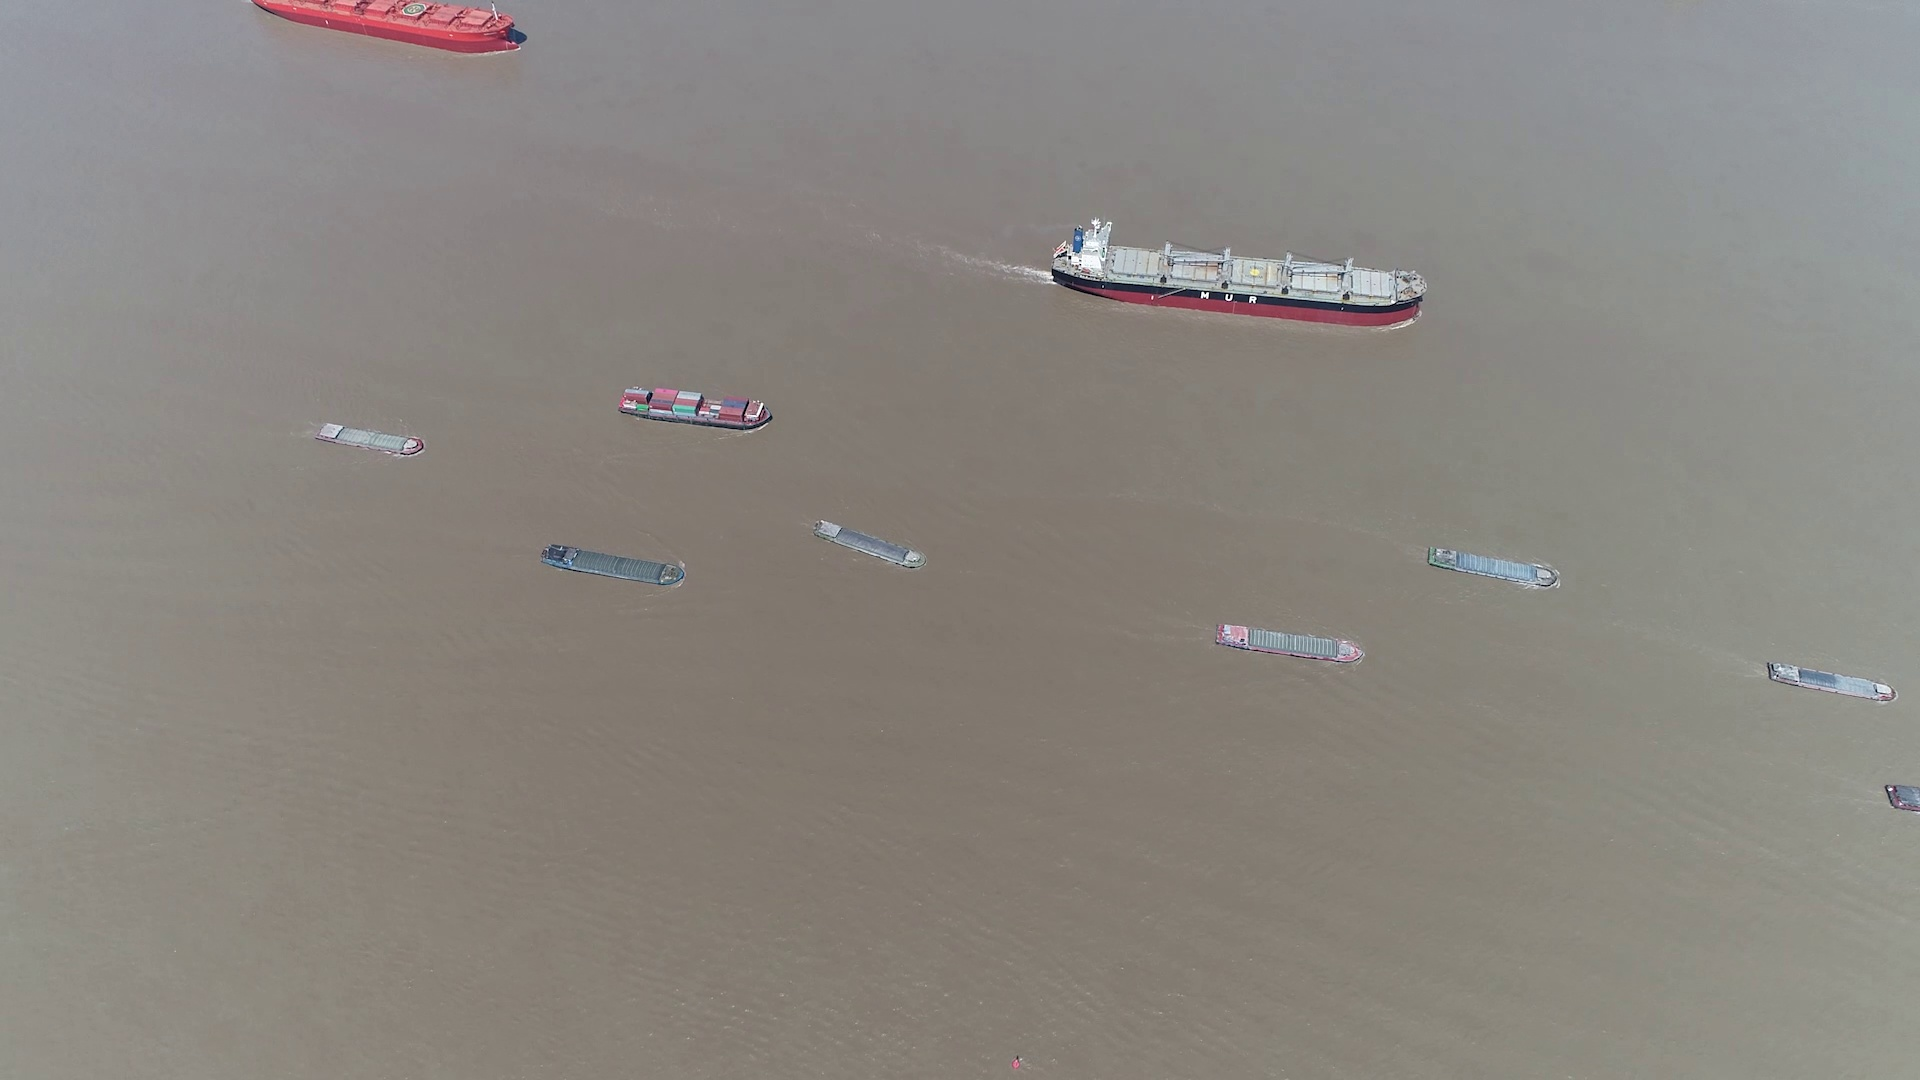ship: (1054, 222, 1427, 324), (252, 0, 525, 55), (618, 386, 771, 431), (538, 542, 688, 585), (1216, 622, 1364, 665), (1763, 659, 1899, 703), (1429, 547, 1560, 589), (816, 524, 926, 571), (314, 419, 425, 458), (1886, 785, 1920, 815)
